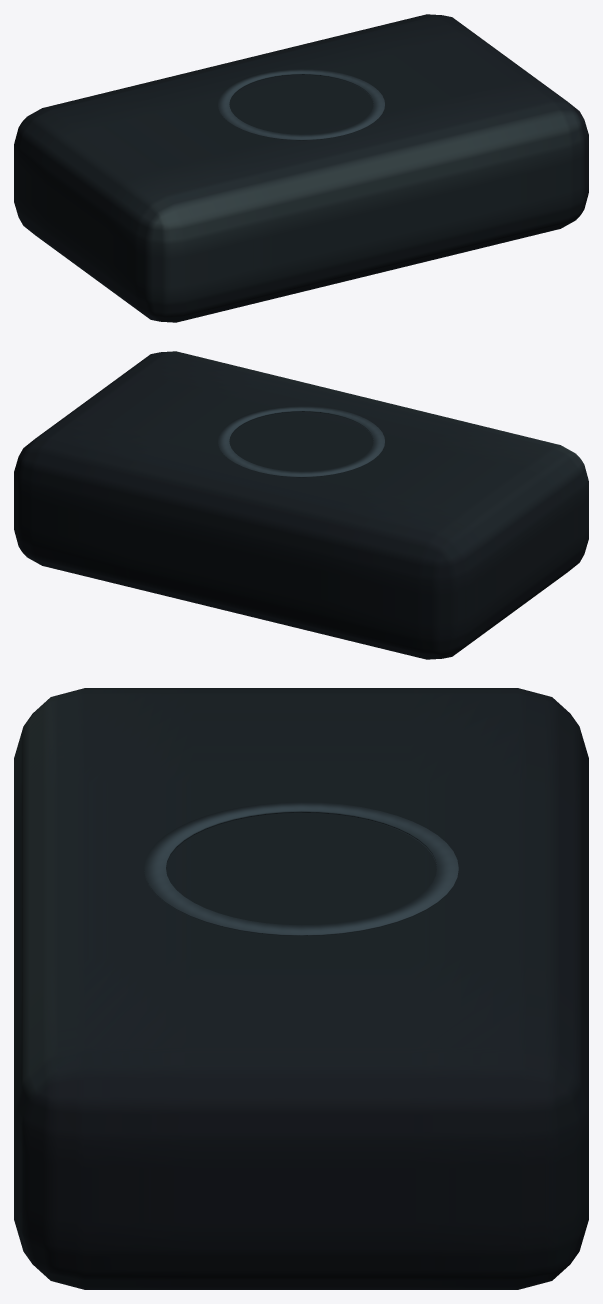
The model's file is Bar_Antimatter.glb.
3 views of the same model, one above another, from view 1: azimuth 30°, elevation 25°; view 2: azimuth 150°, elevation 25°; view 3: azimuth 270°, elevation 25° (orthographic). The views are drawn at different scales.
Visible parts, largest first — view 1: Bar_antimatter; view 2: Bar_antimatter; view 3: Bar_antimatter.
Part boxes in pixels (box(x1,y1,x2,y2)): Bar_antimatter: box(14, 14, 588, 322); Bar_antimatter: box(14, 351, 588, 659); Bar_antimatter: box(14, 688, 588, 1289).
Bounding box in the file's own units: 0.9 × 0.2432 × 0.53.
